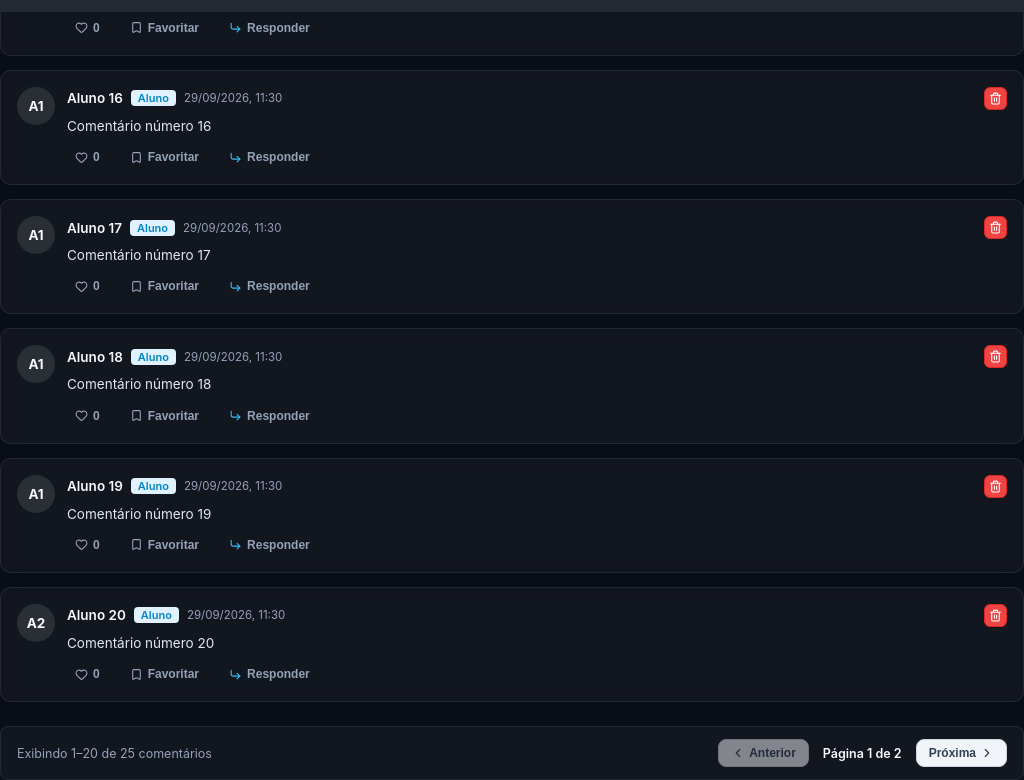
LessonComments Component › paginates comments to show only the first 20 initially and navigates between pages
(page scrolled)
Expected: the text "Comentário número 20" is shown, left=67, top=635, right=214, bottom=651
Expected: the text "Comentário número 21" is not shown
// Avançar para a próxima página
Click the button with test id "next-comments-page-btn": (961, 753) left=916, top=739, right=1007, bottom=767
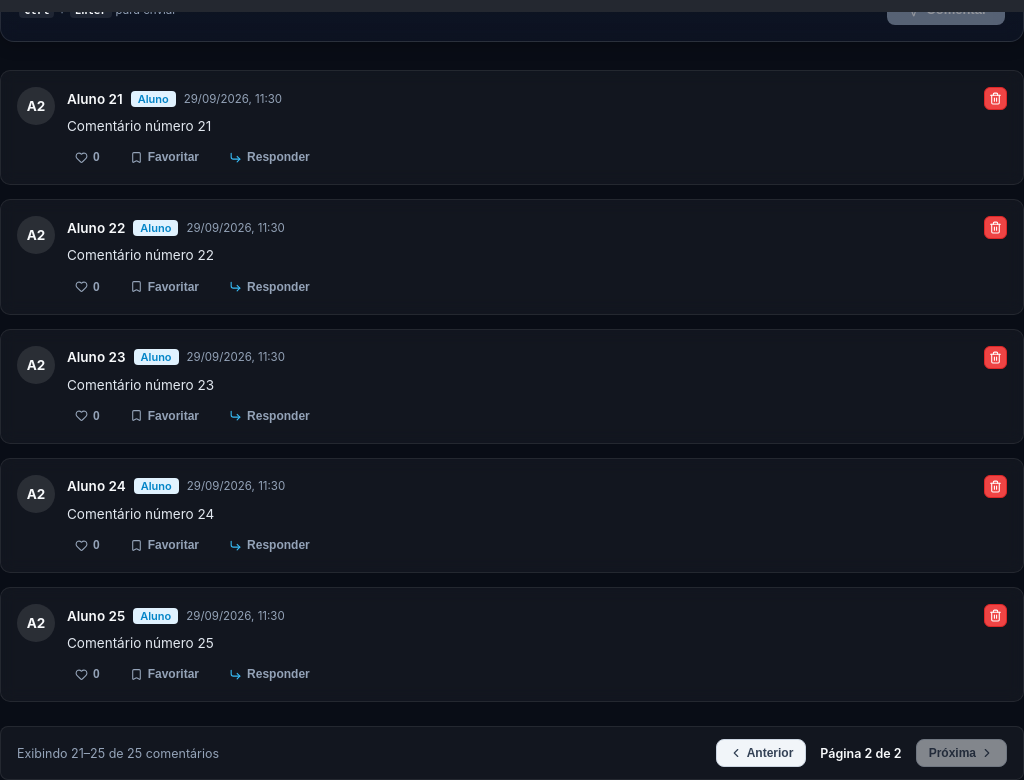
Now the text "Comentário número 1" is gone
Now the text "Comentário número 21" is shown, box left=67, top=118, right=211, bottom=134
Now the text "Comentário número 25" is shown, box left=67, top=635, right=214, bottom=651
// Voltar para a página anterior
Click the button with test id "prev-comments-page-btn": (761, 753) left=716, top=739, right=806, bottom=767
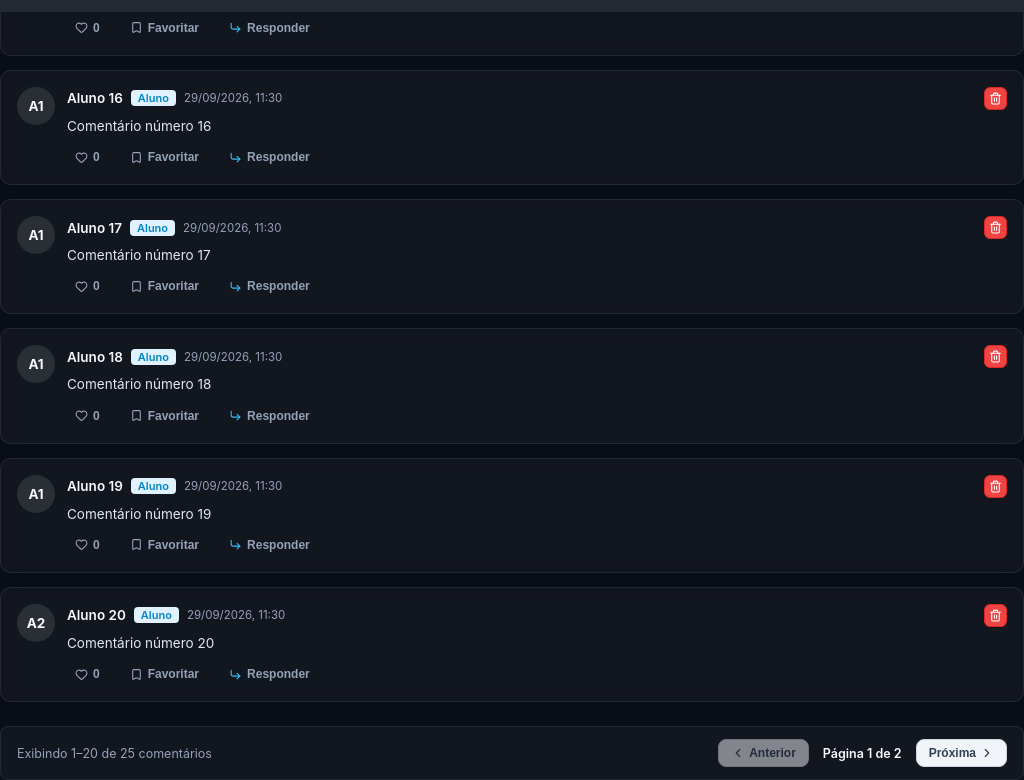
Now the text "Comentário número 21" is gone
Now the text "Página 1 de 2" is shown, box left=817, top=746, right=908, bottom=760
